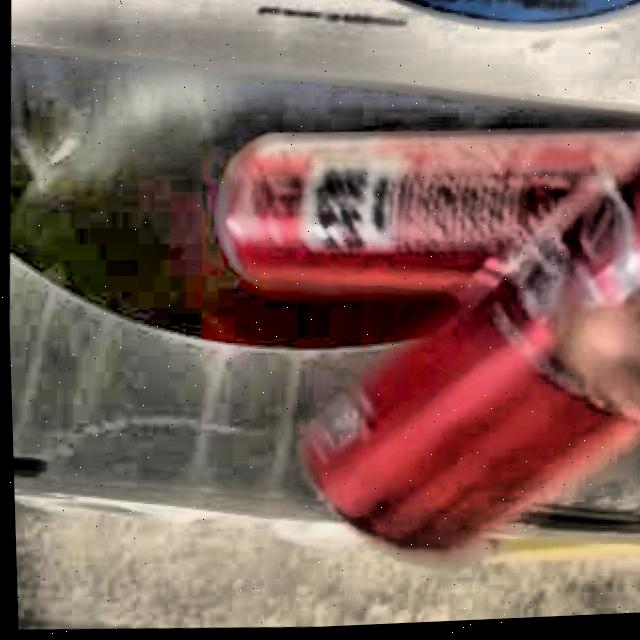metal: (222, 135, 640, 553)
